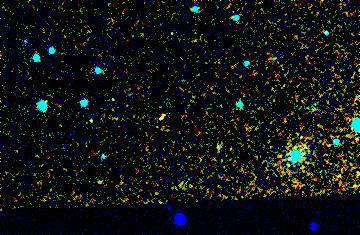star: (150, 100, 180, 130)
